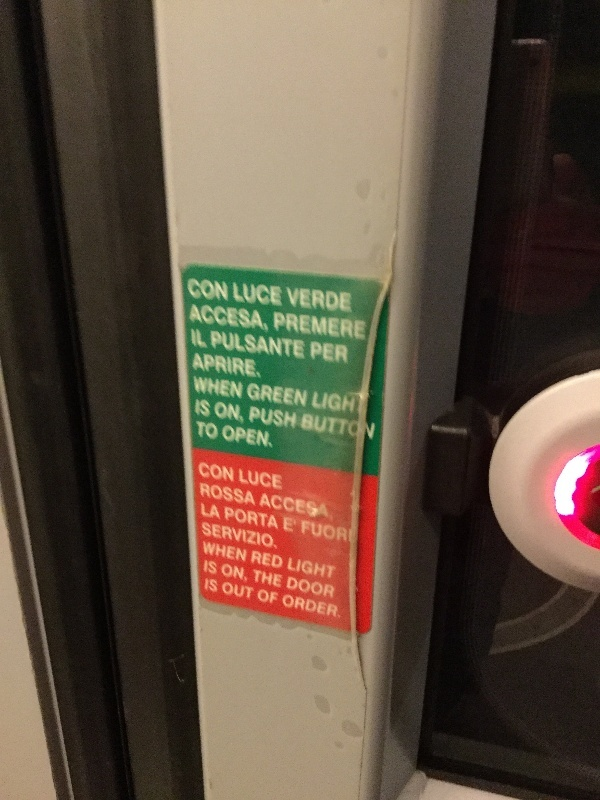text: (289, 330, 305, 359), (289, 312, 304, 341), (305, 312, 320, 341), (321, 312, 336, 341), (337, 312, 352, 341), (225, 330, 240, 359), (241, 330, 256, 359), (257, 330, 272, 359), (273, 330, 288, 359), (209, 522, 224, 550), (225, 522, 240, 550), (241, 522, 256, 550), (257, 522, 272, 550), (274, 312, 288, 341), (193, 304, 208, 331), (209, 304, 224, 331), (225, 304, 240, 331), (241, 304, 256, 331), (257, 424, 273, 449), (305, 414, 320, 440), (321, 414, 336, 440), (337, 414, 352, 440), (353, 414, 368, 440), (273, 493, 288, 519), (289, 493, 304, 519), (305, 493, 320, 519), (211, 330, 224, 359), (225, 424, 240, 449), (241, 424, 256, 449), (289, 594, 304, 619), (305, 594, 320, 619), (321, 594, 336, 619), (193, 278, 208, 302), (209, 278, 224, 302), (241, 282, 256, 306), (257, 282, 272, 306), (289, 287, 304, 311), (305, 287, 320, 311), (321, 287, 336, 311), (337, 287, 352, 311), (209, 353, 224, 377), (225, 353, 240, 377), (241, 353, 256, 377), (193, 376, 208, 400), (209, 376, 224, 400), (225, 376, 240, 400), (257, 383, 272, 407), (273, 383, 288, 407), (289, 383, 304, 407), (353, 312, 365, 341), (209, 483, 224, 506), (225, 483, 240, 506), (241, 483, 256, 506), (289, 576, 304, 599), (305, 576, 320, 599), (321, 341, 336, 363), (321, 390, 336, 412), (337, 390, 352, 412), (257, 406, 272, 428), (273, 406, 288, 428), (241, 468, 256, 490), (257, 468, 272, 490), (225, 507, 240, 529), (241, 507, 256, 529), (257, 507, 272, 529), (289, 557, 304, 579), (305, 557, 320, 579), (321, 557, 336, 579), (225, 402, 240, 423), (305, 520, 320, 541), (321, 520, 336, 541), (209, 541, 224, 562), (225, 541, 240, 562), (195, 353, 208, 377), (209, 462, 224, 482), (321, 576, 334, 599), (257, 304, 268, 331), (225, 562, 240, 581), (257, 550, 272, 569), (257, 569, 272, 587), (193, 328, 207, 347), (225, 582, 240, 599), (337, 341, 348, 363), (263, 493, 272, 519), (196, 421, 208, 440), (241, 582, 254, 599), (259, 588, 272, 605), (273, 282, 282, 306), (196, 399, 208, 417), (337, 520, 347, 541), (321, 493, 329, 519), (209, 502, 221, 519), (311, 341, 320, 363), (273, 468, 282, 490), (248, 383, 256, 407), (273, 550, 283, 569), (215, 402, 224, 423), (200, 483, 208, 506), (199, 462, 208, 482), (225, 462, 234, 482), (273, 569, 283, 587), (209, 421, 218, 440), (202, 522, 208, 550), (369, 414, 375, 440), (289, 406, 296, 428), (234, 282, 240, 306), (273, 522, 278, 550), (314, 390, 320, 412), (241, 541, 247, 562), (209, 578, 218, 592), (187, 278, 192, 302), (201, 502, 208, 519), (241, 562, 247, 581), (289, 517, 296, 533), (209, 560, 217, 574), (251, 406, 256, 428), (273, 507, 278, 529), (203, 541, 208, 562), (284, 594, 288, 619), (257, 353, 261, 377), (273, 588, 278, 605), (337, 594, 340, 619), (225, 278, 228, 302), (284, 517, 288, 533), (301, 520, 304, 541), (253, 550, 256, 569), (286, 287, 288, 311), (305, 383, 307, 407), (353, 390, 355, 412), (241, 402, 243, 423), (205, 560, 208, 574), (222, 562, 224, 581), (209, 399, 211, 417), (254, 569, 256, 587), (206, 578, 208, 592), (303, 414, 304, 440), (223, 424, 224, 449), (241, 376, 242, 400), (239, 468, 240, 490), (191, 328, 192, 347), (223, 582, 224, 599)
